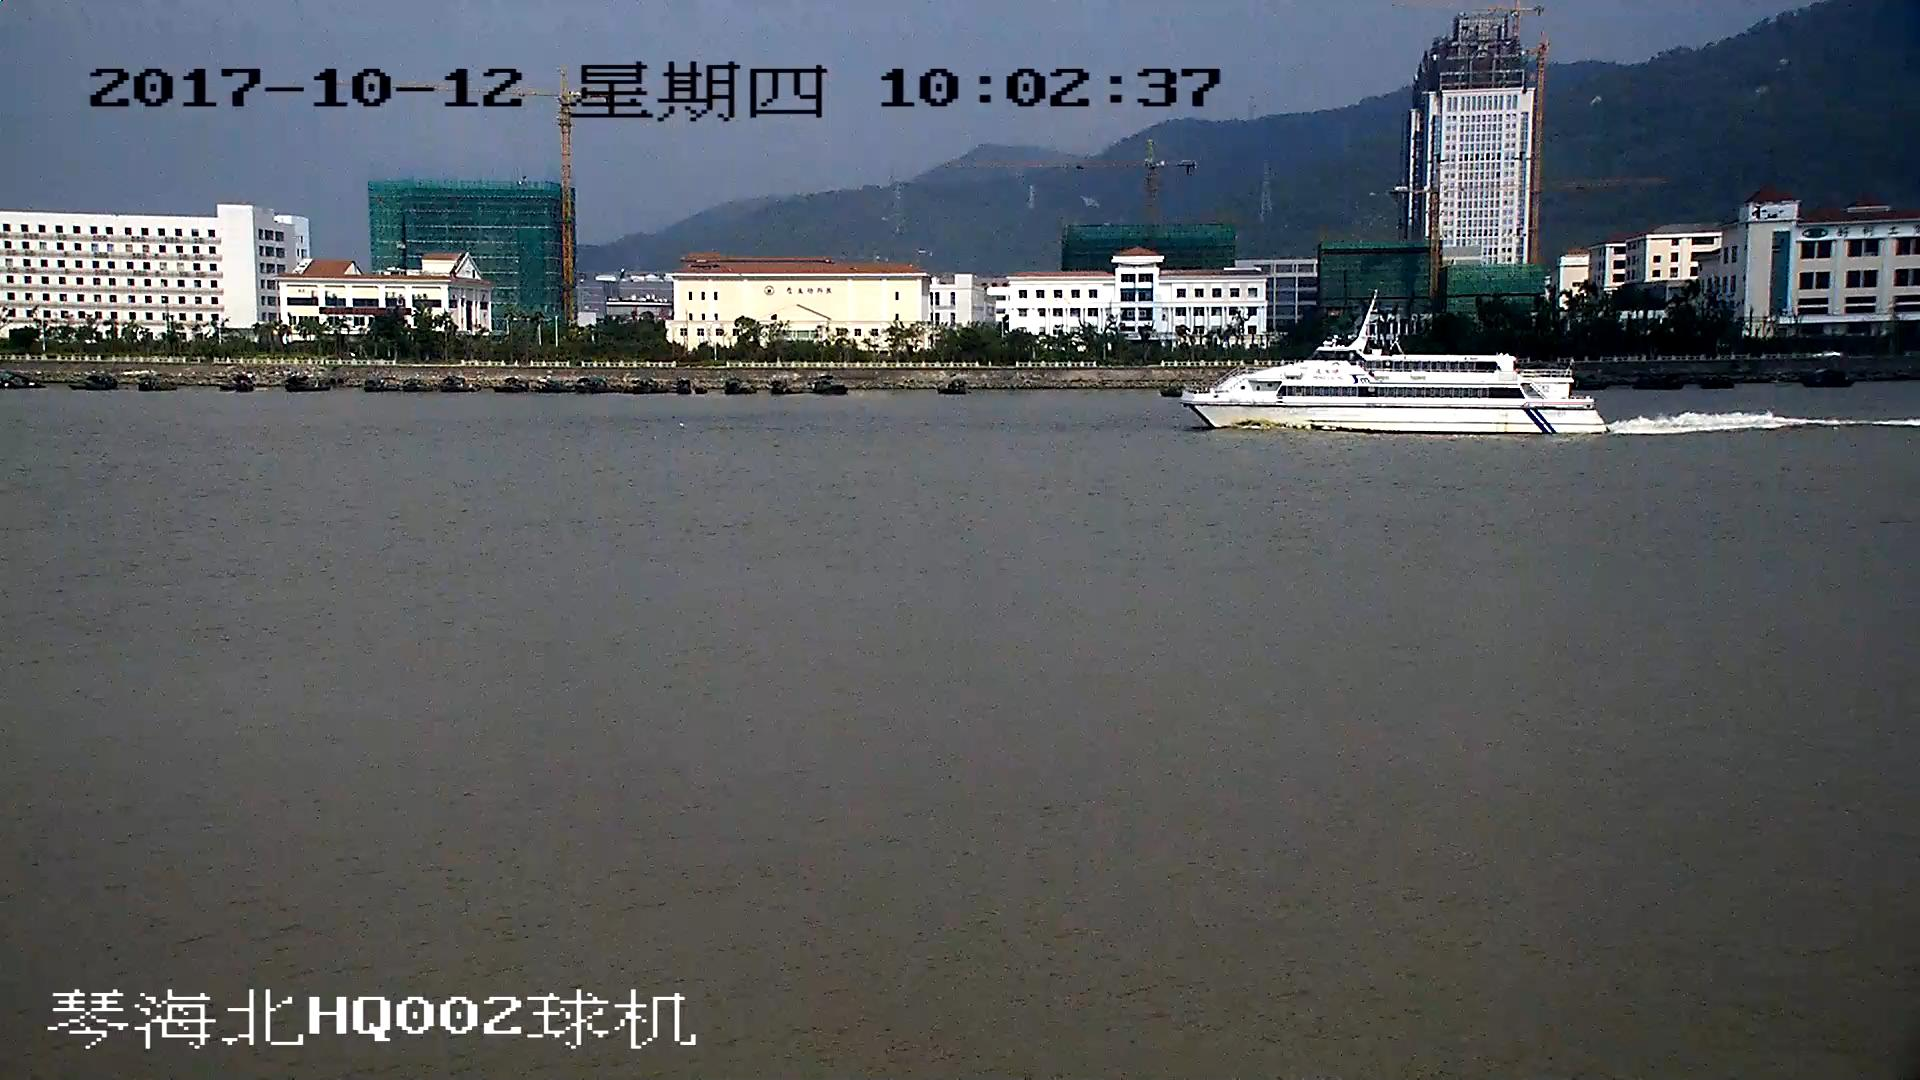passenger ship: (1187, 289, 1611, 441)
